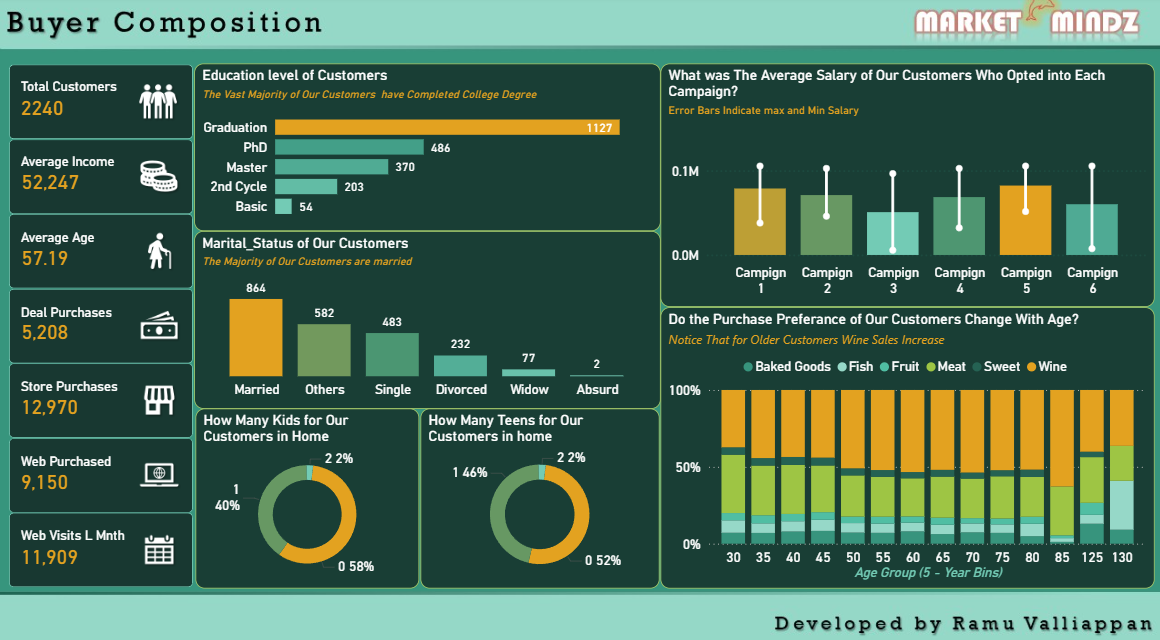

The page's visual inventory and layout, read from the dashboard file:
{"tool":"powerbi","page":{"name":"Buyer Composition","canvas":[1280,720],"ordinal":1},"visuals":[{"type":"barChart","title":"Education level of Customers","fields":{"Category":["marketmindz_research_data.Education"],"Y":["CountNonNull(marketmindz_research_data.ID)"]},"box":[215.4,74.1,511.8,183.9],"z":0},{"type":"columnChart","title":"Marital_Status of Our Customers","fields":{"Y":["CountNonNull(marketmindz_research_data.ID)"],"Category":["marketmindz_research_data.Marital_Status"]},"box":[215.4,258,511.8,194.9],"z":1000},{"type":"donutChart","title":"How Many Kids for Our Customers in Home","fields":{"Category":["marketmindz_research_data.Kidhome"],"Y":["CountNonNull(marketmindz_research_data.ID)"]},"box":[216.8,452.8,245.6,197.6],"z":2000},{"type":"donutChart","title":"How Many Teens for Our Customers in home","fields":{"Y":["CountNonNull(marketmindz_research_data.ID)"],"Category":["marketmindz_research_data.Teenhome"]},"box":[463.8,452.8,262.1,197.6],"z":3000},{"type":"columnChart","title":"What was The Average Salary of Our Customers Who Opted into Each Campaign?","fields":{"Category":["campaign.Campaign"],"Y":["Avg(marketmindz_research_data. Income )"]},"box":[727.3,74.1,542,267.6],"z":4000},{"type":"hundredPercentStackedColumnChart","title":"Do the Purchase Preferance of Our Customers Change With Age?","fields":{"Y":["Sum(products.Total Sales)"],"Series":["products.Products"],"Category":["marketmindz_research_data.Age Group"]},"box":[727.3,341.7,542,308.7],"z":5000},{"type":"cardVisual","fields":{"Data":["CountNonNull(marketmindz_research_data.ID)","Avg(marketmindz_research_data. Income )","Avg(marketmindz_research_data.Age)","Sum(marketmindz_research_data.Purchased - Deal)","Sum(marketmindz_research_data.Purchased - Store)","Sum(marketmindz_research_data.Purchased - Web)","Sum(marketmindz_research_data.Web_Visits_Last_Month)"]},"box":[0,63.1,226.4,599.7],"z":6000}]}

Visuals, with their boxes in screenshot pixels (x1, y1, x2, y2), scaled from the page's 1280x720 canvas onto the 1160x640 screenshot:
"Education level of Customers" barChart: (195, 66, 659, 229)
"Marital_Status of Our Customers" columnChart: (195, 229, 659, 403)
"How Many Kids for Our Customers in Home" donutChart: (196, 402, 419, 578)
"How Many Teens for Our Customers in home" donutChart: (420, 402, 658, 578)
"What was The Average Salary of Our Customers Who Opted into Each Campaign?" columnChart: (659, 66, 1150, 304)
"Do the Purchase Preferance of Our Customers Change With Age?" hundredPercentStackedColumnChart: (659, 304, 1150, 578)
cardVisual - CountNonNull(marketmindz_research_data.ID) x Avg(marketmindz_research_data. Income ): (0, 56, 205, 589)
